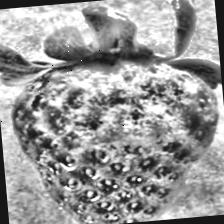Powdery Mildew Fruit: (5, 47, 224, 187)
